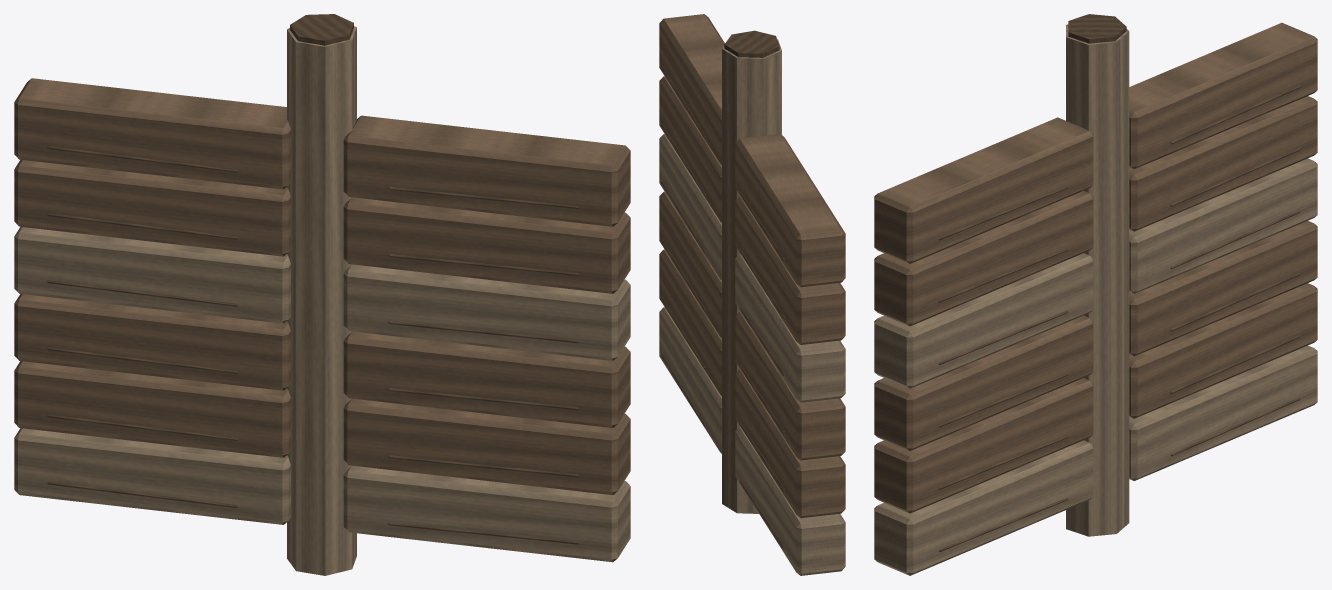
The model's file is wall_mask_34.glb.
3 views of the same model, side by side, from view 1: azimuth 30°, elevation 25°; view 2: azimuth 150°, elevation 25°; view 3: azimuth 270°, elevation 25° (orthographic). The views are drawn at different scales.
Parts seen in each view (by area): view 1: wall_mask_34__Weathered_timber, wall_mask_34__Timber_worn_edges, wall_mask_34__Dark_endgrain; view 2: wall_mask_34__Weathered_timber, wall_mask_34__Timber_worn_edges, wall_mask_34__Dark_endgrain; view 3: wall_mask_34__Weathered_timber, wall_mask_34__Timber_worn_edges, wall_mask_34__Dark_endgrain.
Boxes of the visible parts, left/top/right/bottom form: wall_mask_34__Weathered_timber: left=14, top=78, right=630, bottom=494; wall_mask_34__Timber_worn_edges: left=14, top=26, right=630, bottom=575; wall_mask_34__Dark_endgrain: left=47, top=14, right=578, bottom=544; wall_mask_34__Weathered_timber: left=659, top=14, right=845, bottom=518; wall_mask_34__Timber_worn_edges: left=659, top=39, right=845, bottom=575; wall_mask_34__Dark_endgrain: left=660, top=30, right=784, bottom=548; wall_mask_34__Weathered_timber: left=874, top=22, right=1317, bottom=513; wall_mask_34__Timber_worn_edges: left=874, top=24, right=1317, bottom=575; wall_mask_34__Dark_endgrain: left=938, top=14, right=1300, bottom=552.
Size of the model in its own units: 1.13 by 1.39 by 1.13.
Materials: 3 (3 with a texture image).
